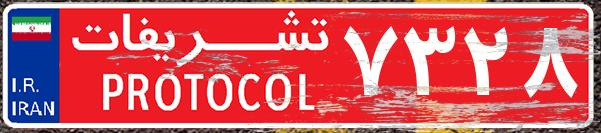2: (460, 20, 520, 115)
3: (400, 20, 460, 115)
7: (340, 20, 400, 115)
8: (520, 20, 580, 115)
تشریفات: (60, 8, 340, 125)
